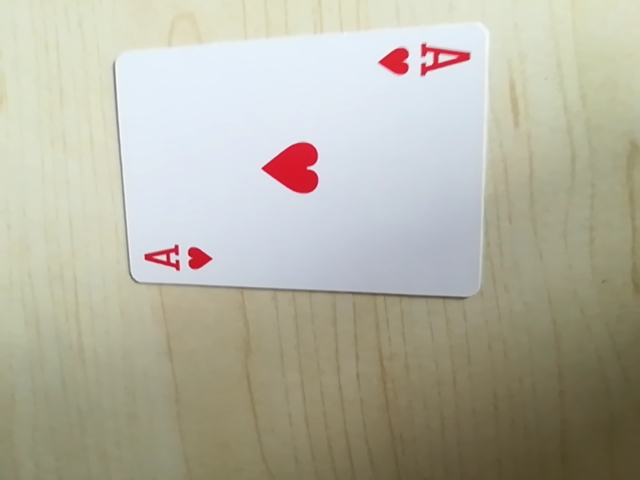hx a: (377, 33, 472, 87), (140, 235, 218, 281)
